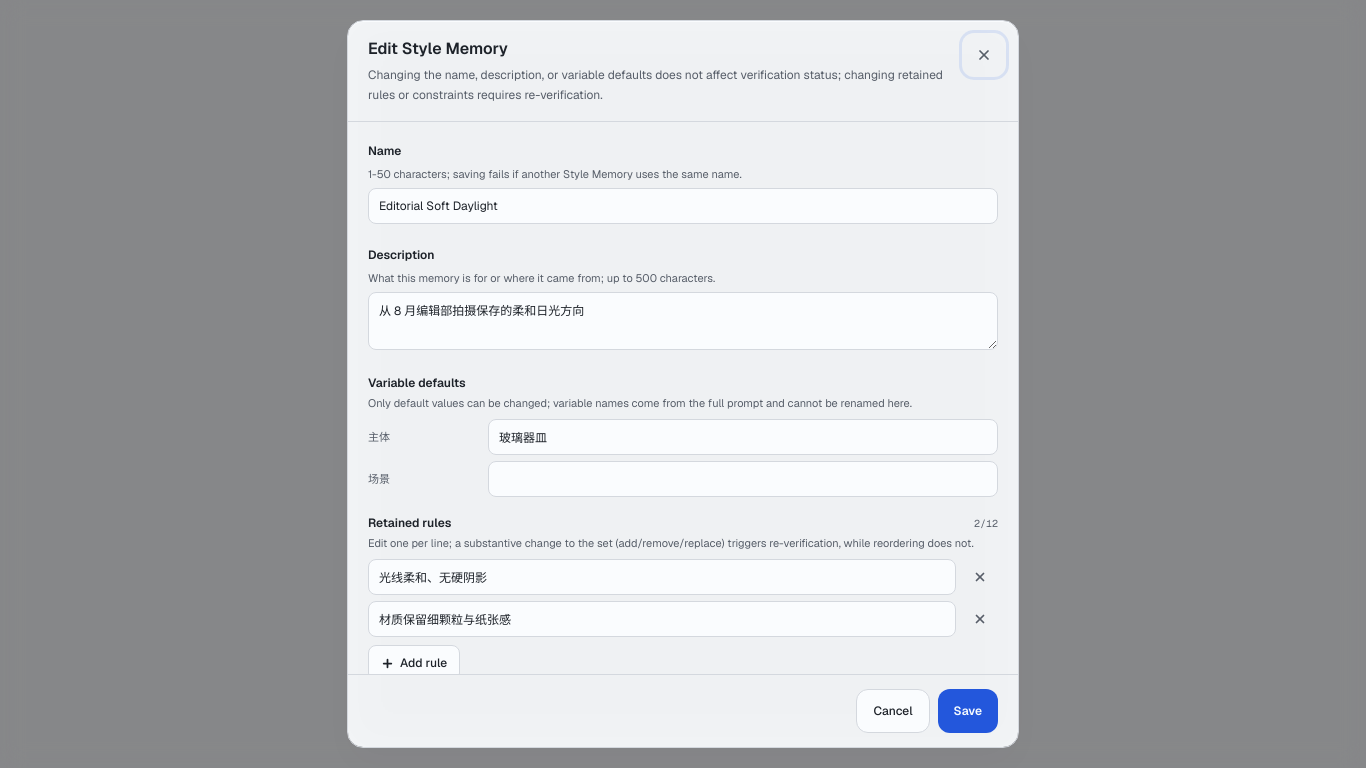
Test: StyleMemoryEditForm (plan-05 edit rollback hint) › rule order-only change (no substantive set change): no rollback hint
This screenshot has width=1366, height=768.
# 交换两条规则内容（顺序互换，集合不变）
Replace the text in the 3rd field named "Retained rules" with "材质保留细颗粒与纸张感" at (662, 577), box x1=368 y1=559 x2=956 y2=595
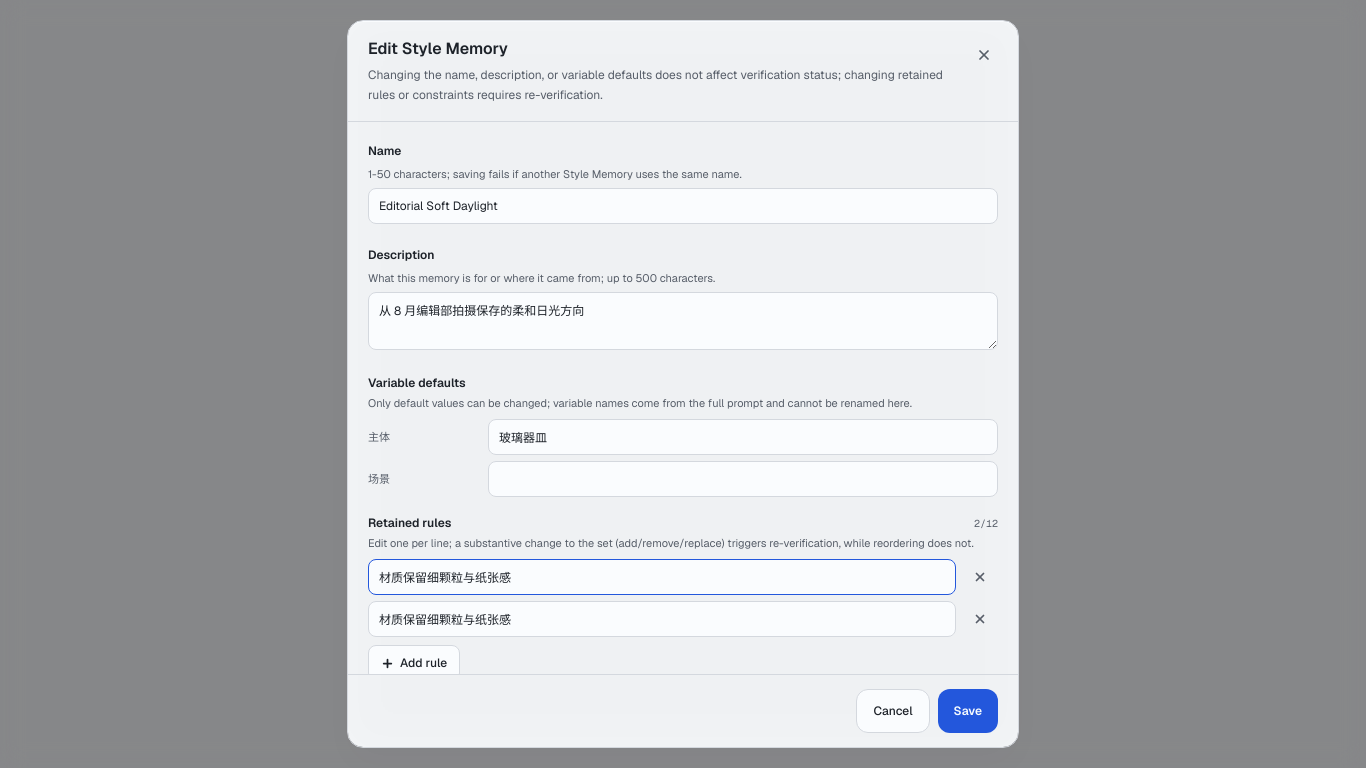
Replace the text in the 4th field named "Retained rules" with "光线柔和、无硬阴影" at (662, 619), box x1=368 y1=601 x2=956 y2=637
(page scrolled)
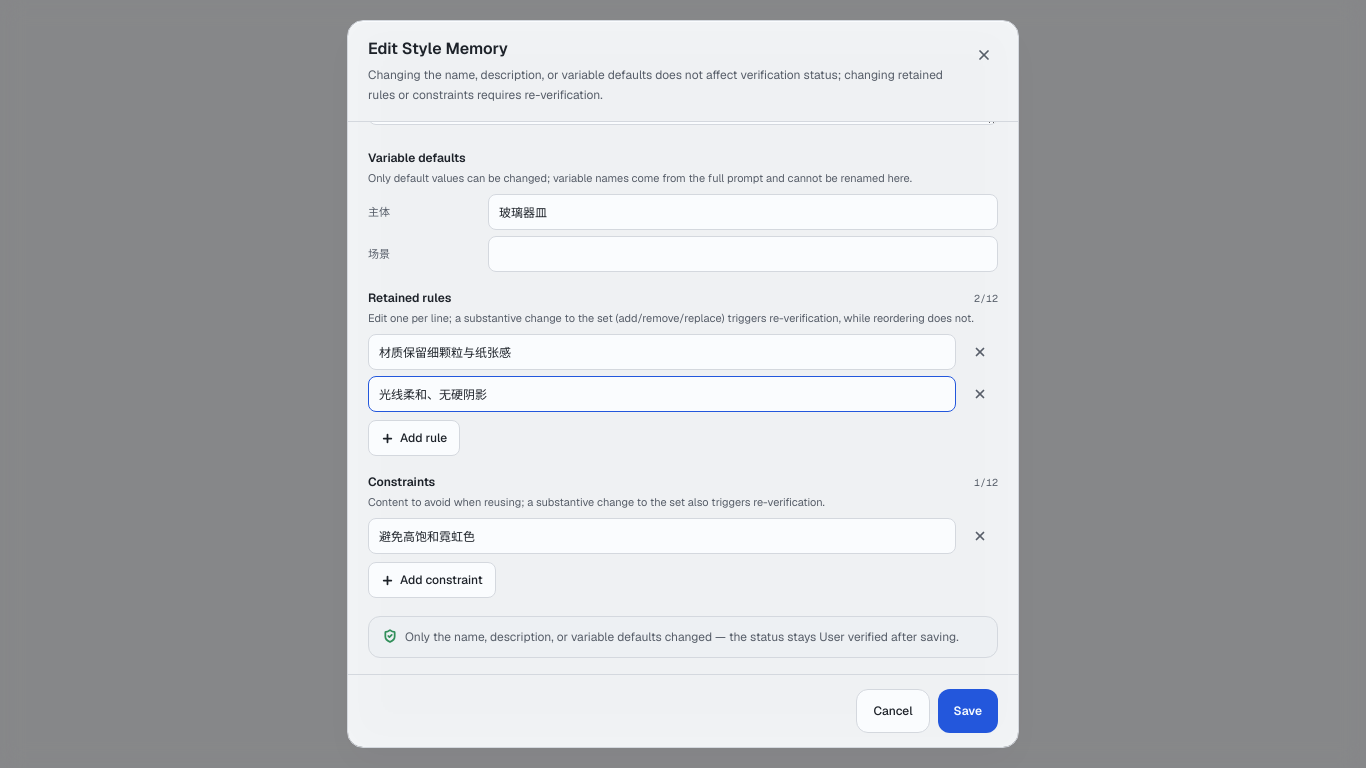
Now the text "stays User verified" is shown, box x1=405 y1=629 x2=959 y2=645
